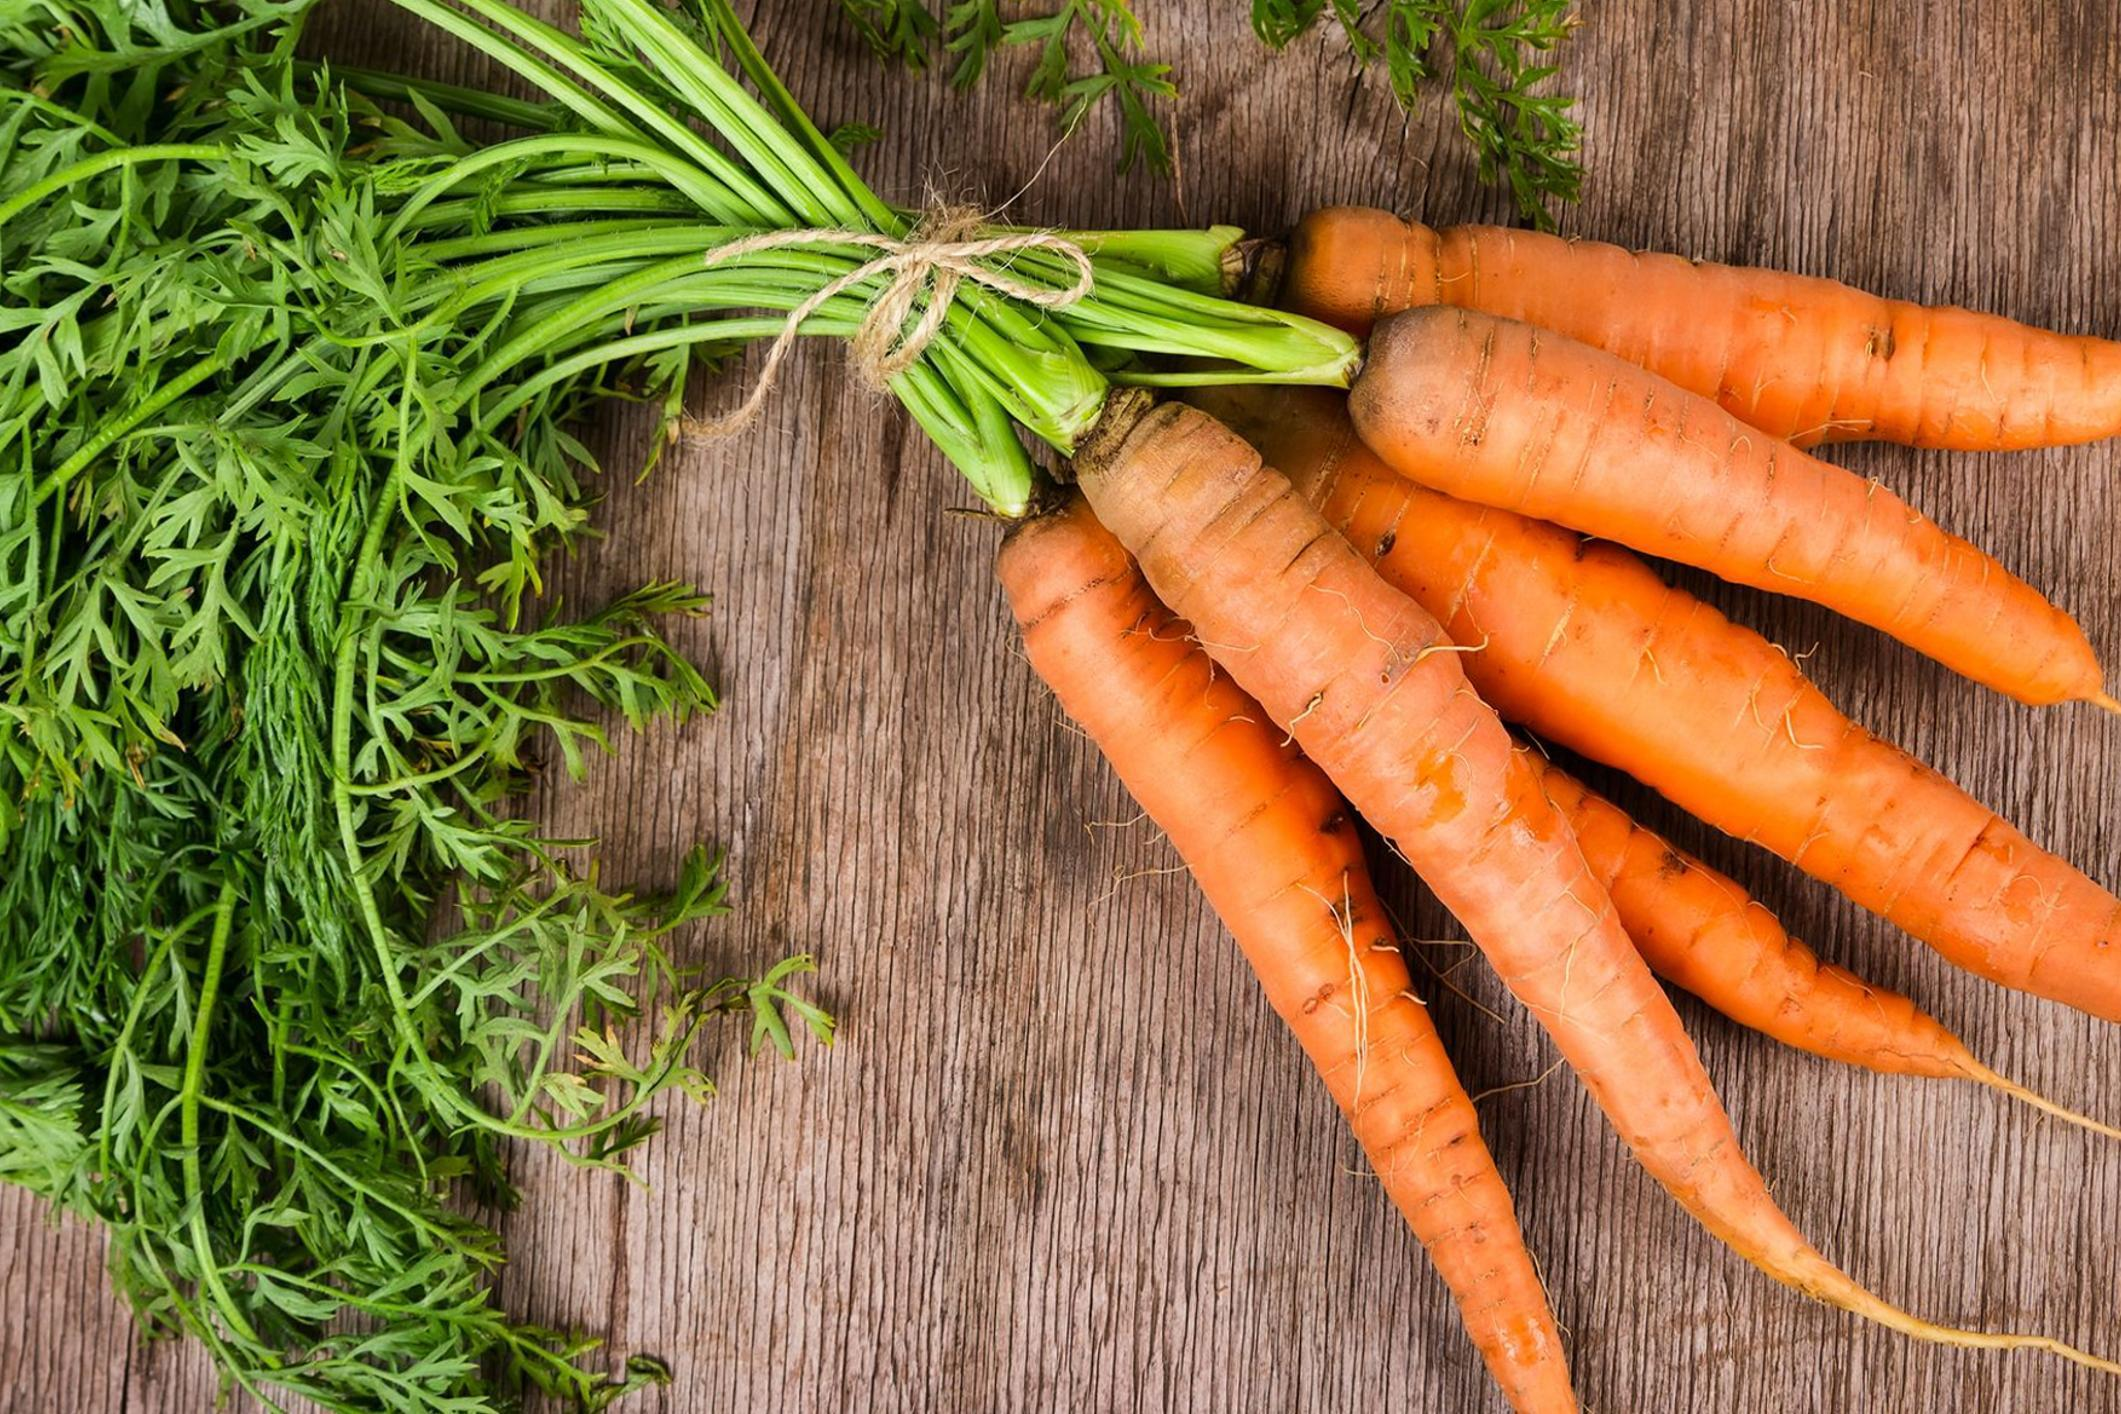carrot: (810, 126, 2119, 1414), (1013, 353, 2119, 1414), (1299, 197, 2121, 832)
